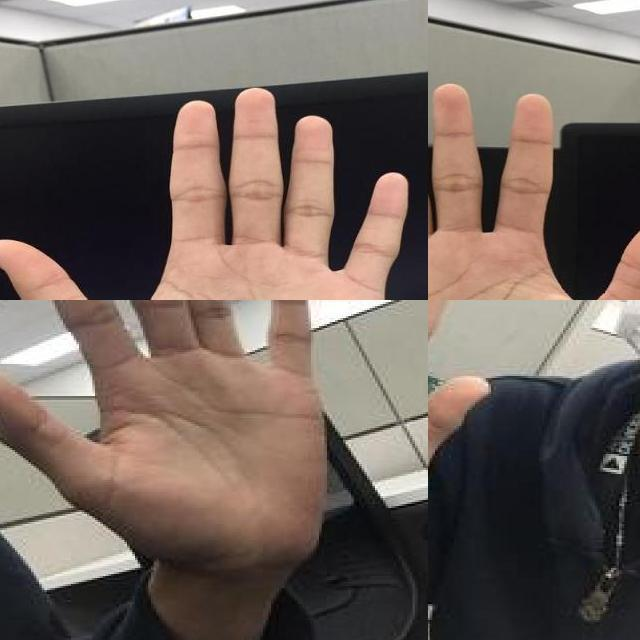no-gloves: (0, 84, 410, 300), (0, 300, 332, 566), (428, 81, 640, 300), (428, 300, 575, 522)
